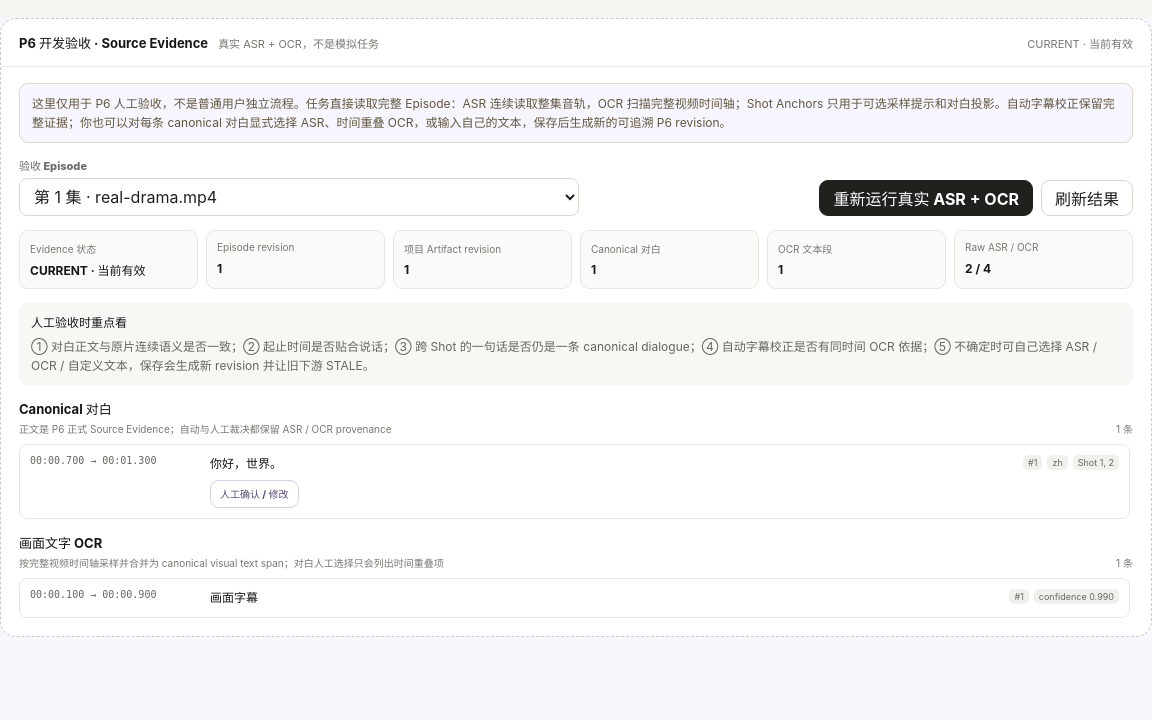
Scenario: P6AcceptancePanel › cancels manual editing without creating a revision
The width and height of the screenshot is (1152, 720).
Click the button "人工确认 / 修改" at (254, 494), box [210,480,299,508]
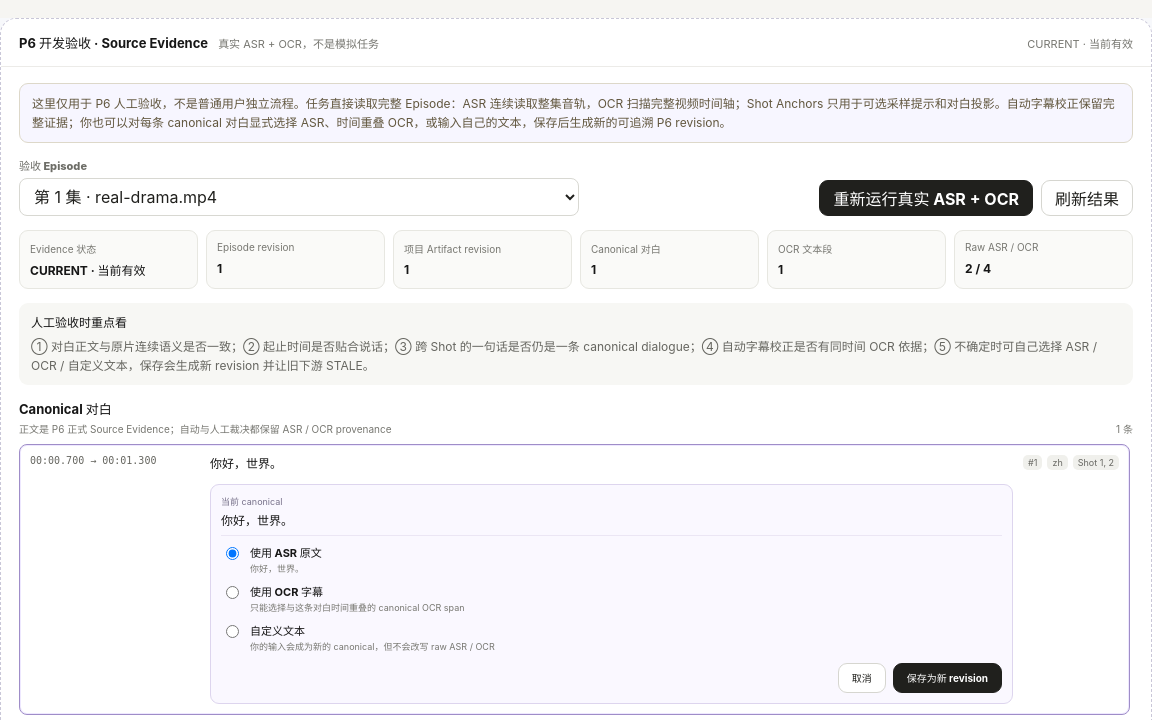
expect the button "取消" is shown: met
Click the button "取消" at (862, 678), box [838,663,886,693]
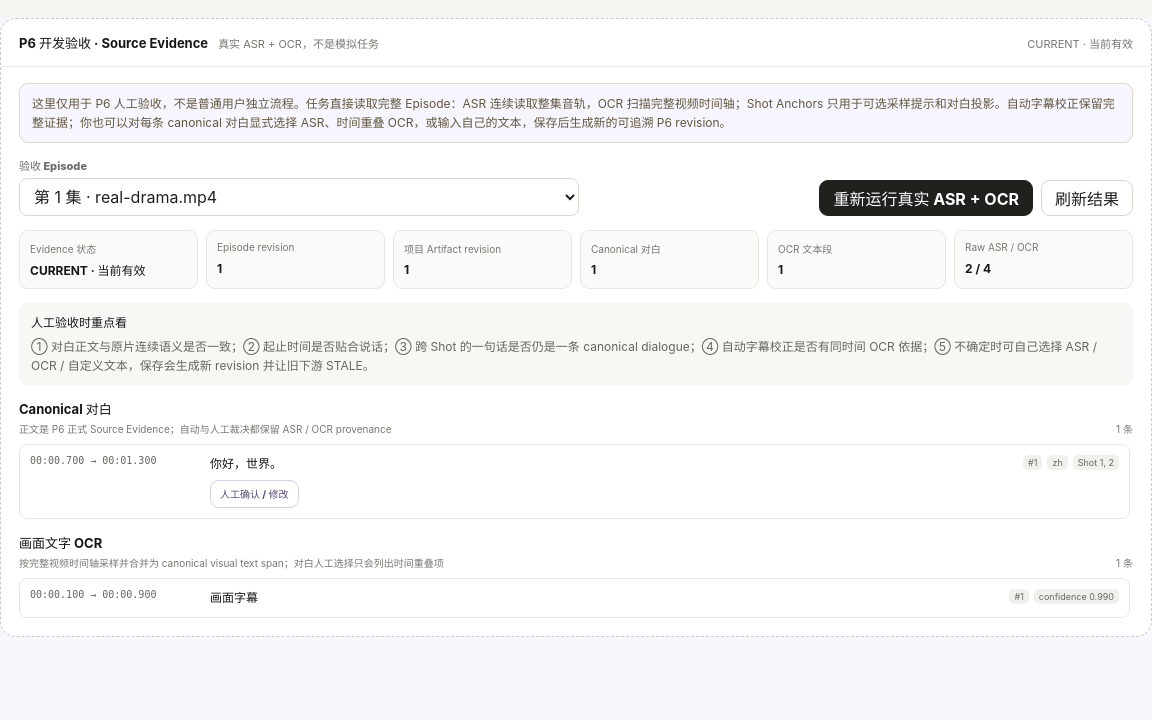
expect the text "保存为新 revision" is gone: met
